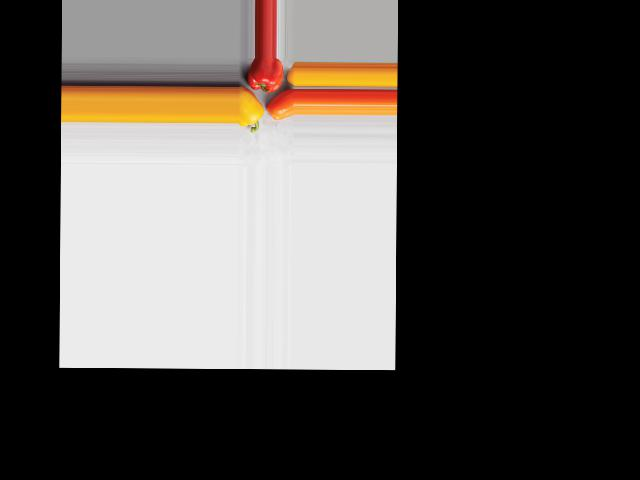bell_pepper: (245, 58, 283, 93)
